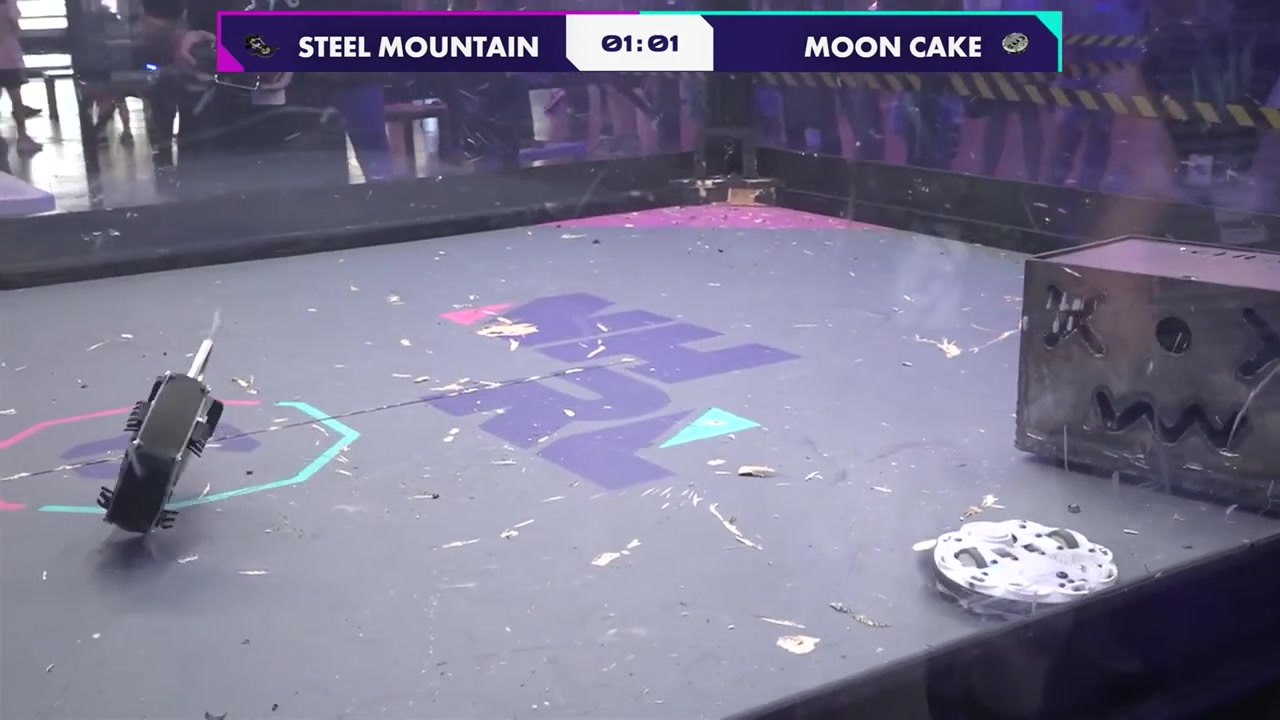combatbot: (95, 338, 226, 537), (926, 517, 1118, 619)
housebot: (1013, 233, 1280, 498)
